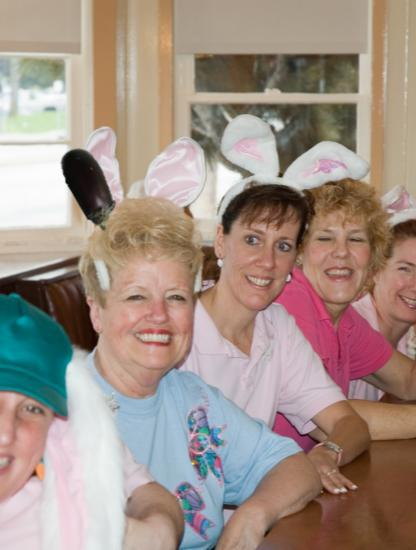Eggplant: (46, 144, 136, 234)
